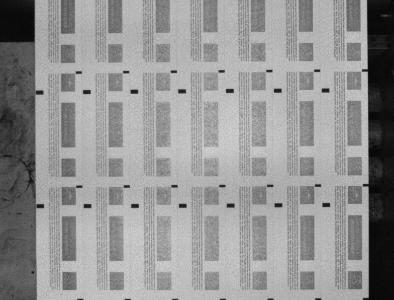backgroundclutter: (31, 271, 35, 274)
qblock: (322, 202, 331, 207), (130, 89, 139, 94), (227, 203, 235, 208), (179, 203, 187, 208), (131, 203, 139, 208), (274, 88, 282, 93), (275, 203, 283, 207), (84, 204, 92, 208), (178, 89, 186, 93), (83, 90, 91, 94), (226, 89, 234, 93), (36, 204, 44, 208), (322, 88, 330, 92), (36, 90, 43, 94)
smallqblock: (219, 184, 226, 187), (267, 184, 274, 187), (315, 184, 322, 187), (76, 185, 83, 188), (123, 71, 130, 74), (172, 185, 178, 188), (363, 69, 369, 72), (124, 185, 130, 188), (267, 69, 273, 72), (219, 70, 225, 73), (171, 70, 177, 73), (315, 69, 321, 72), (76, 71, 82, 74), (363, 184, 370, 186)
